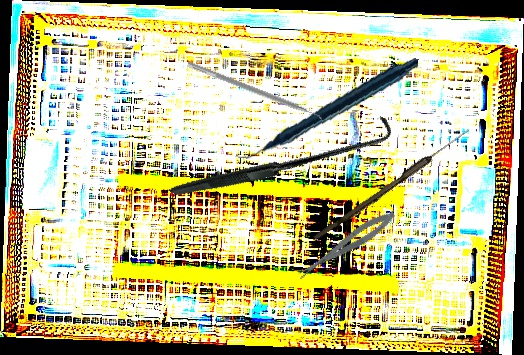Handpiece: (235, 38, 419, 178)
Hook Surgical: (166, 46, 397, 268)
Micro Scissor: (292, 206, 400, 283)
Spatula Surgical: (184, 61, 327, 125)
Surgical Spoon: (313, 125, 472, 244)
